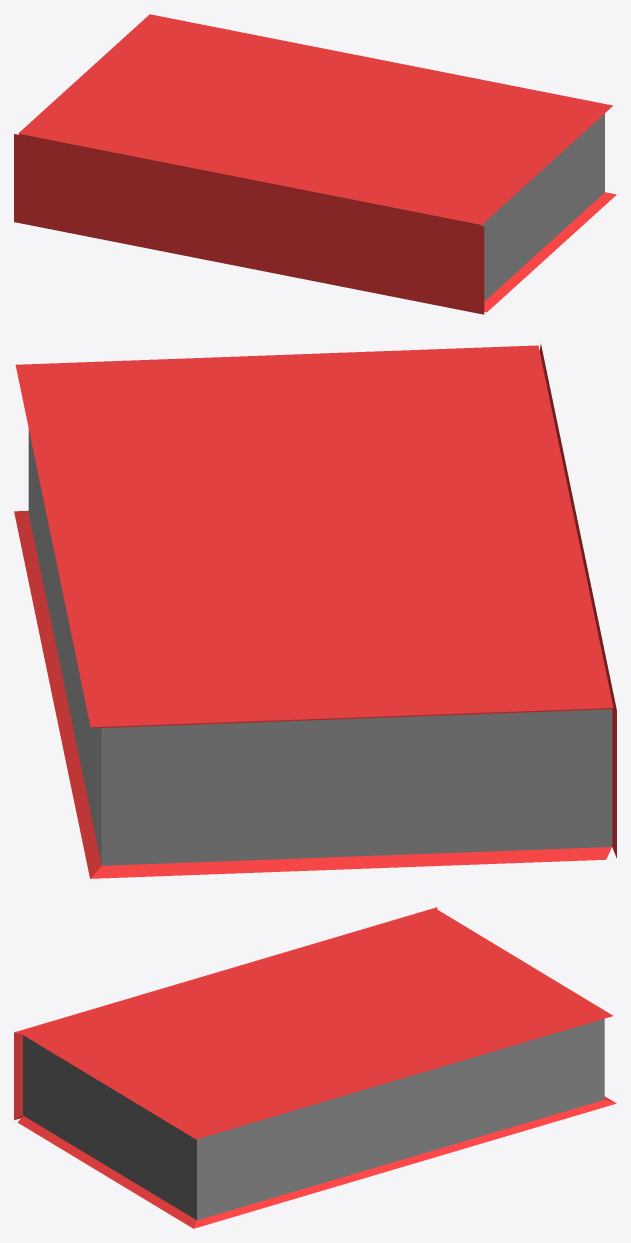
Rendered from Book.FBX.
3 views of the same model, one above another, from view 1: azimuth 30°, elevation 25°; view 2: azimuth 150°, elevation 25°; view 3: azimuth 270°, elevation 25° (orthographic). The views are drawn at different scales.
Visible parts, largest first — view 1: Book; view 2: Book; view 3: Book.
Boxes of the visible parts, x1,y1,x2,y2 form: Book: [14, 14, 616, 314]; Book: [14, 344, 616, 878]; Book: [14, 907, 616, 1228].
Bounding box in the file's own units: 44.27 × 7.79 × 48.27.
